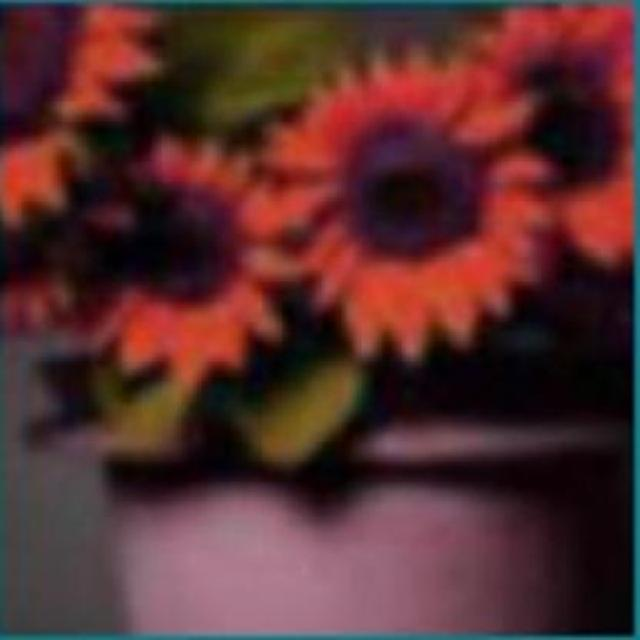sunflower: (262, 57, 543, 357)
